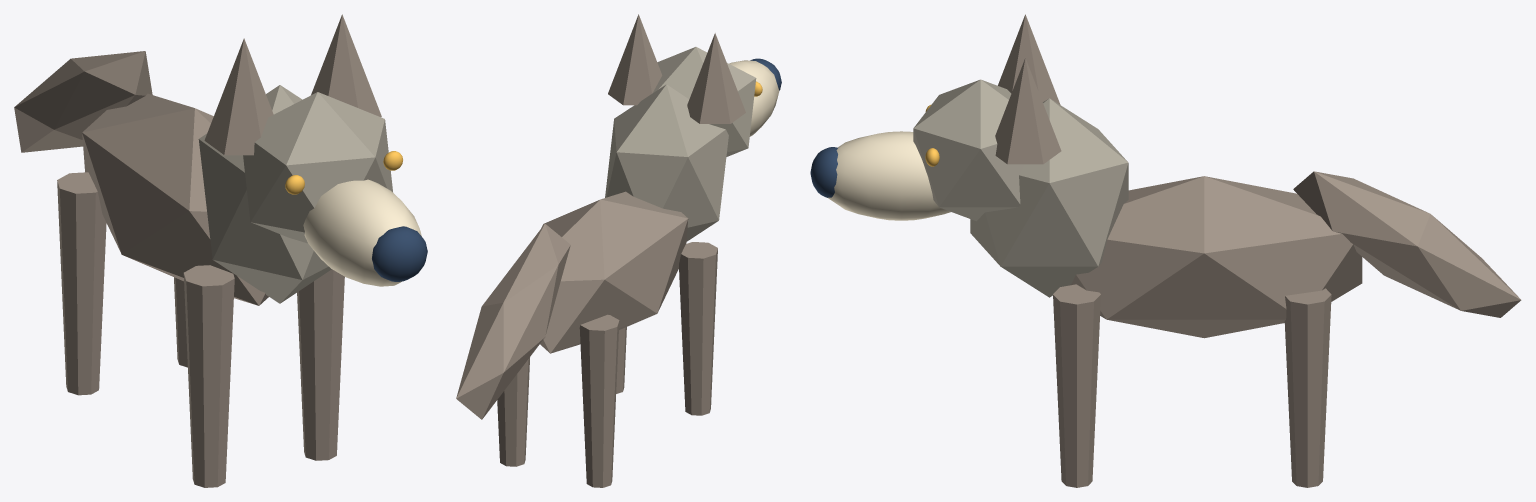
The model's file is wolf.glb.
3 renders of one model, left to right at view 1: azimuth 30°, elevation 25°; view 2: azimuth 150°, elevation 25°; view 3: azimuth 270°, elevation 25°, orthographic. The views are drawn at different scales.
Parts seen in each view (by area): view 1: Wolf body, Head.005, Neck.001, Leg.008, Leg.009, Tail.001, Leg.010, Muzzle.001, Ear.004, Ear.005, Nose.004, Leg.011; view 2: Wolf body, Neck.001, Tail.001, Leg.008, Leg.009, Head.005, Ear.004, Ear.005, Leg.011, Muzzle.001, Leg.010; view 3: Wolf body, Neck.001, Tail.001, Head.005, Leg.010, Leg.011, Muzzle.001, Ear.005, Ear.004, Nose.004.
Part boxes in pixels (box(x1,y1,x2,y2)): Wolf body: box(82, 93, 268, 305); Head.005: box(243, 92, 392, 243); Neck.001: box(198, 85, 331, 303); Leg.008: box(183, 265, 234, 487); Leg.009: box(57, 172, 106, 395); Tail.001: box(14, 51, 152, 152); Leg.010: box(297, 269, 344, 460); Muzzle.001: box(303, 179, 421, 286); Ear.004: box(204, 38, 273, 155); Ear.005: box(311, 14, 381, 116); Nose.004: box(372, 226, 427, 281); Leg.011: box(174, 277, 187, 367); Wolf body: box(540, 191, 688, 353); Neck.001: box(605, 84, 728, 241); Tail.001: box(456, 224, 570, 419); Leg.008: box(679, 242, 717, 415); Leg.009: box(579, 314, 619, 487); Head.005: box(652, 47, 756, 156); Ear.004: box(687, 33, 745, 123); Ear.005: box(608, 14, 662, 105); Leg.011: box(497, 357, 529, 466); Muzzle.001: box(729, 60, 779, 136); Leg.010: box(616, 327, 626, 393); Wolf body: box(1069, 176, 1362, 338); Neck.001: box(970, 98, 1128, 297); Tail.001: box(1293, 171, 1521, 317); Head.005: box(913, 79, 1024, 221); Leg.010: box(1053, 284, 1100, 487); Leg.011: box(1284, 288, 1331, 487); Muzzle.001: box(828, 131, 950, 220); Ear.005: box(995, 58, 1061, 164); Ear.004: box(998, 14, 1060, 104); Nose.004: box(810, 147, 837, 197).
Size of the model in its own units: 0.4819 by 1.35 by 2.07.
